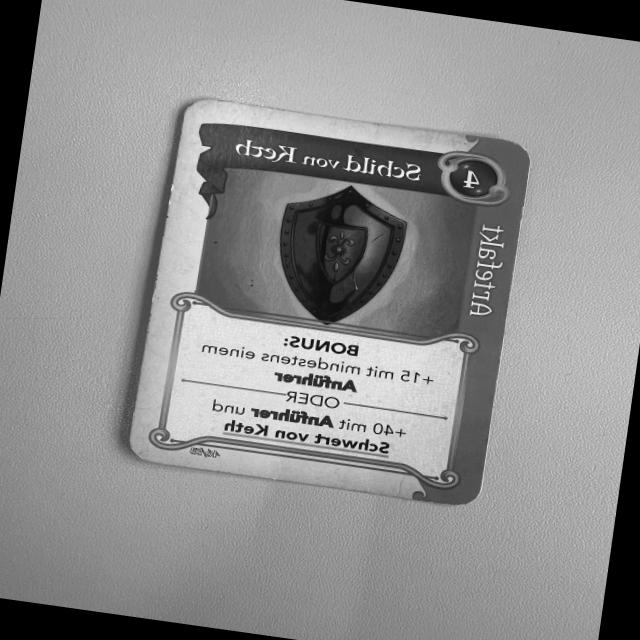Shield Of Keth: (110, 92, 542, 527)
